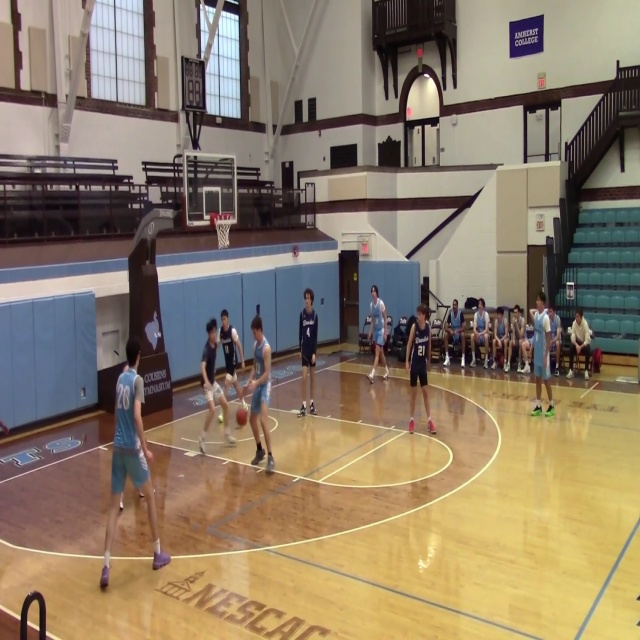Basketball: (236, 407, 248, 425), (217, 411, 224, 423)
